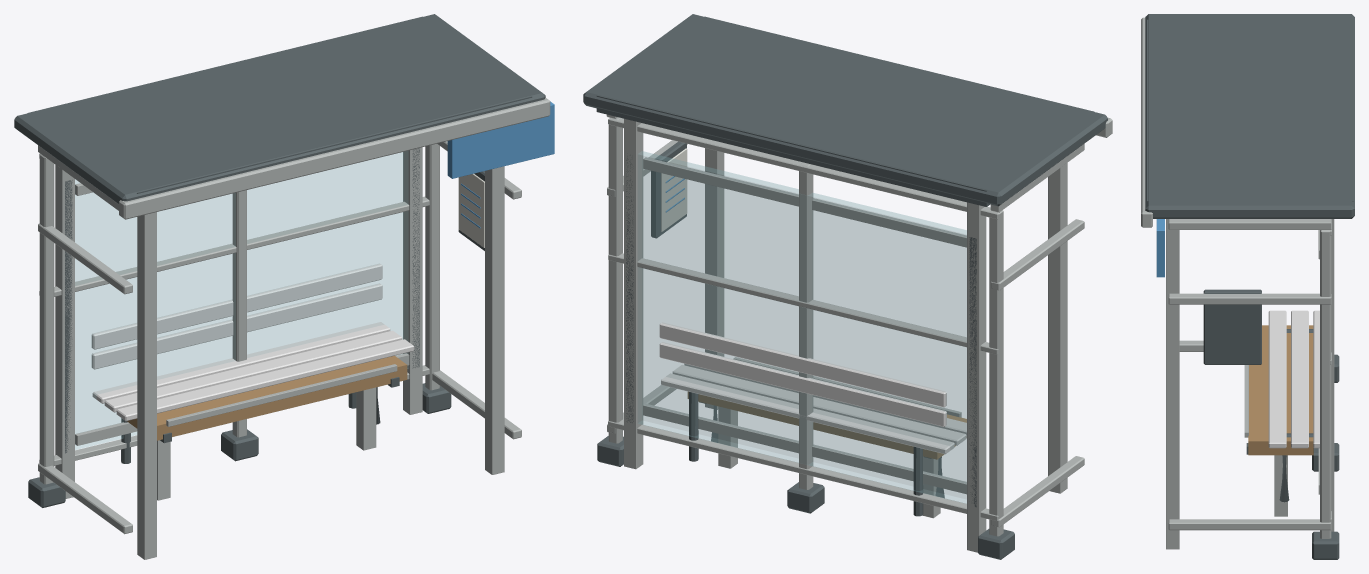
File: Bus_Stop_Shelter.fbx
3 renders of one model, left to right at view 1: azimuth 30°, elevation 25°; view 2: azimuth 150°, elevation 25°; view 3: azimuth 270°, elevation 25°, orthographic. The views are drawn at different scales.
Visible parts, largest first — view 1: Bus_Stop_Shelter__Shelter_Roof__LPCXFER, Bus_Stop_Shelter__Shelter_Glazing__LPCXFER, Bus_Stop_Shelter__LPCXFER, Bus_Stop_Shelter__Shelter_Bench__LPCXFER, Bus_Stop_Shelter__Shelter_InfoPanel__LPCXFER; view 2: Bus_Stop_Shelter__Shelter_Glazing__LPCXFER, Bus_Stop_Shelter__Shelter_Roof__LPCXFER, Bus_Stop_Shelter__LPCXFER, Bus_Stop_Shelter__Shelter_Bench__LPCXFER, Bus_Stop_Shelter__Shelter_InfoPanel__LPCXFER; view 3: Bus_Stop_Shelter__Shelter_Roof__LPCXFER, Bus_Stop_Shelter__LPCXFER, Bus_Stop_Shelter__Shelter_Bench__LPCXFER, Bus_Stop_Shelter__Shelter_InfoPanel__LPCXFER.
Part boxes in pixels (x1=…): Bus_Stop_Shelter__Shelter_Roof__LPCXFER: x1=14, y1=14, x2=550, y2=219; Bus_Stop_Shelter__Shelter_Glazing__LPCXFER: x1=75, y1=151, x2=408, y2=449; Bus_Stop_Shelter__LPCXFER: x1=28, y1=101, x2=554, y2=559; Bus_Stop_Shelter__Shelter_Bench__LPCXFER: x1=39, y1=263, x2=429, y2=500; Bus_Stop_Shelter__Shelter_InfoPanel__LPCXFER: x1=458, y1=171, x2=484, y2=250; Bus_Stop_Shelter__Shelter_Glazing__LPCXFER: x1=638, y1=151, x2=966, y2=503; Bus_Stop_Shelter__Shelter_Roof__LPCXFER: x1=583, y1=14, x2=1112, y2=219; Bus_Stop_Shelter__LPCXFER: x1=597, y1=117, x2=1084, y2=559; Bus_Stop_Shelter__Shelter_Bench__LPCXFER: x1=608, y1=322, x2=998, y2=521; Bus_Stop_Shelter__Shelter_InfoPanel__LPCXFER: x1=651, y1=141, x2=687, y2=238; Bus_Stop_Shelter__Shelter_Roof__LPCXFER: x1=1141, y1=14, x2=1354, y2=235; Bus_Stop_Shelter__LPCXFER: x1=1156, y1=219, x2=1339, y2=559; Bus_Stop_Shelter__Shelter_Bench__LPCXFER: x1=1246, y1=310, x2=1339, y2=523; Bus_Stop_Shelter__Shelter_InfoPanel__LPCXFER: x1=1203, y1=289, x2=1261, y2=364.
Bounding box in the file's own units: 277 × 229 × 125.
